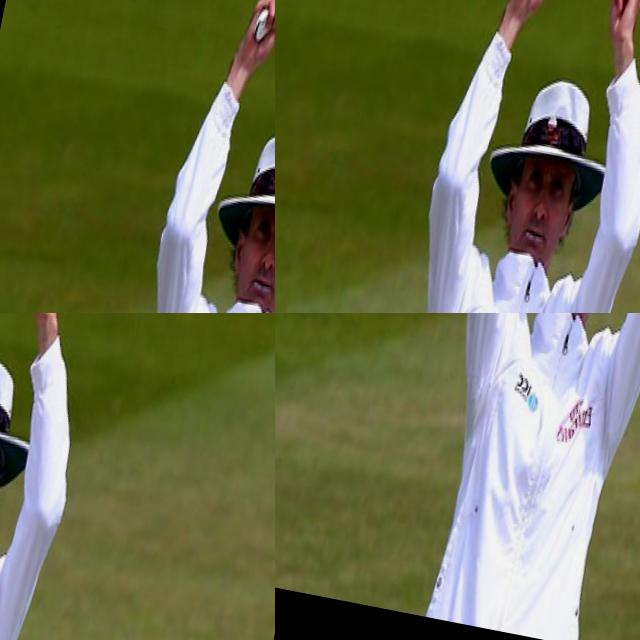No_Ball: (275, 0, 640, 313), (0, 0, 275, 313)
Out: (0, 313, 164, 640)
Six: (388, 313, 640, 640)
